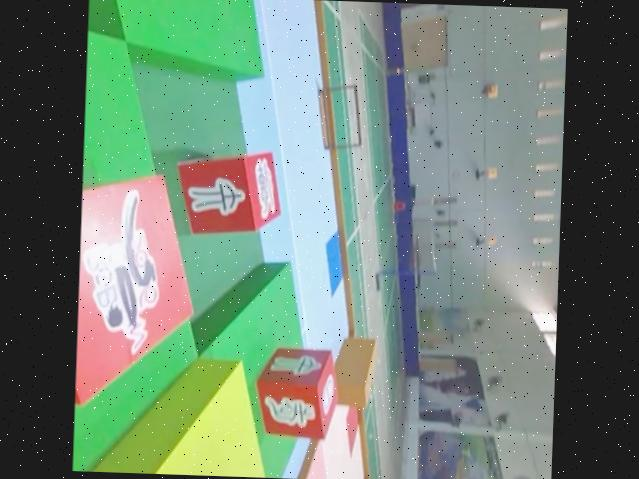R1: (74, 167, 201, 412)
R2 Fake: (172, 145, 286, 237), (253, 344, 341, 442)
